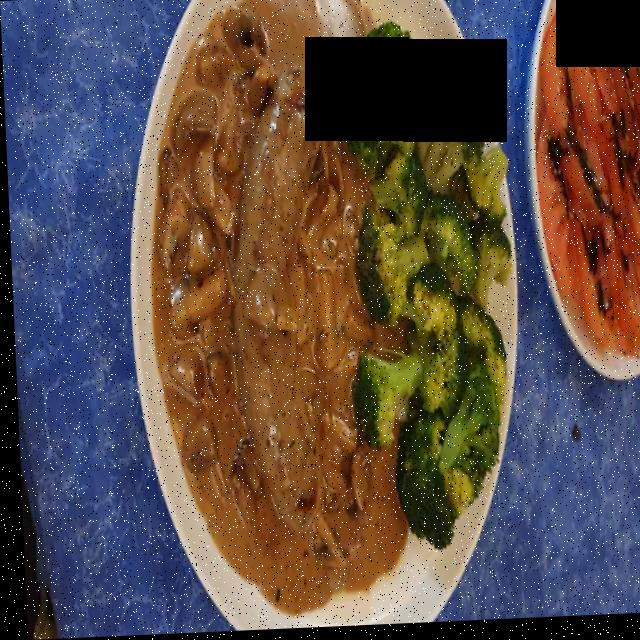broccoli: (354, 40, 504, 549)
sauce-cream: (145, 50, 389, 574)
sausage: (154, 15, 396, 611)
